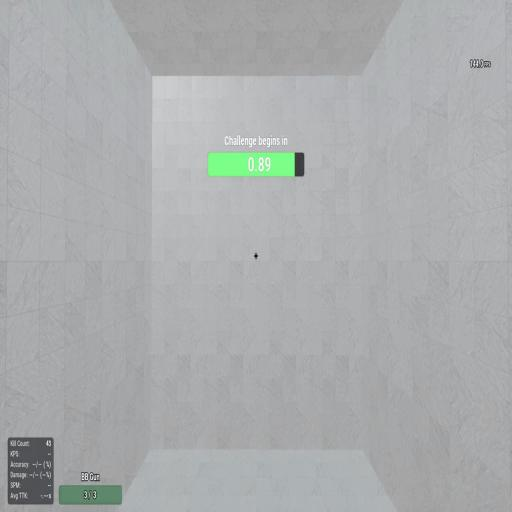Crosshair: (253, 252, 258, 260)
